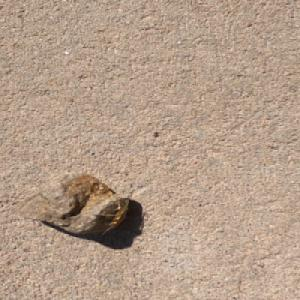Rock: (9, 171, 130, 236)
